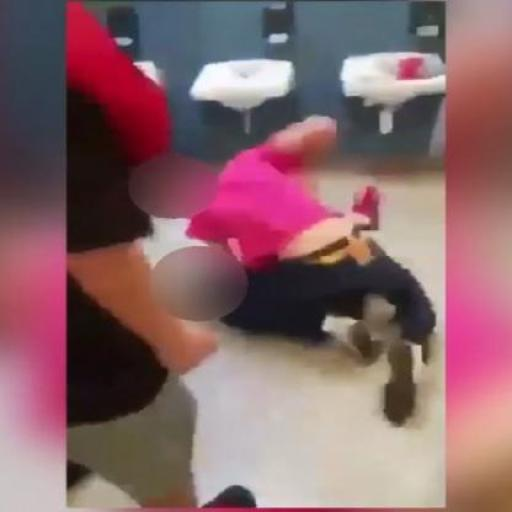Fighting: (170, 111, 439, 425)
